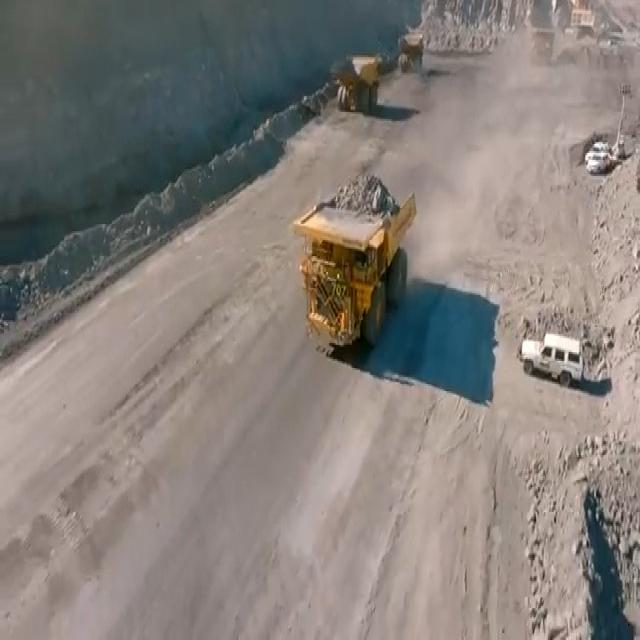dump_truck: (293, 166, 415, 354)
light_vehicle: (524, 319, 585, 387)
